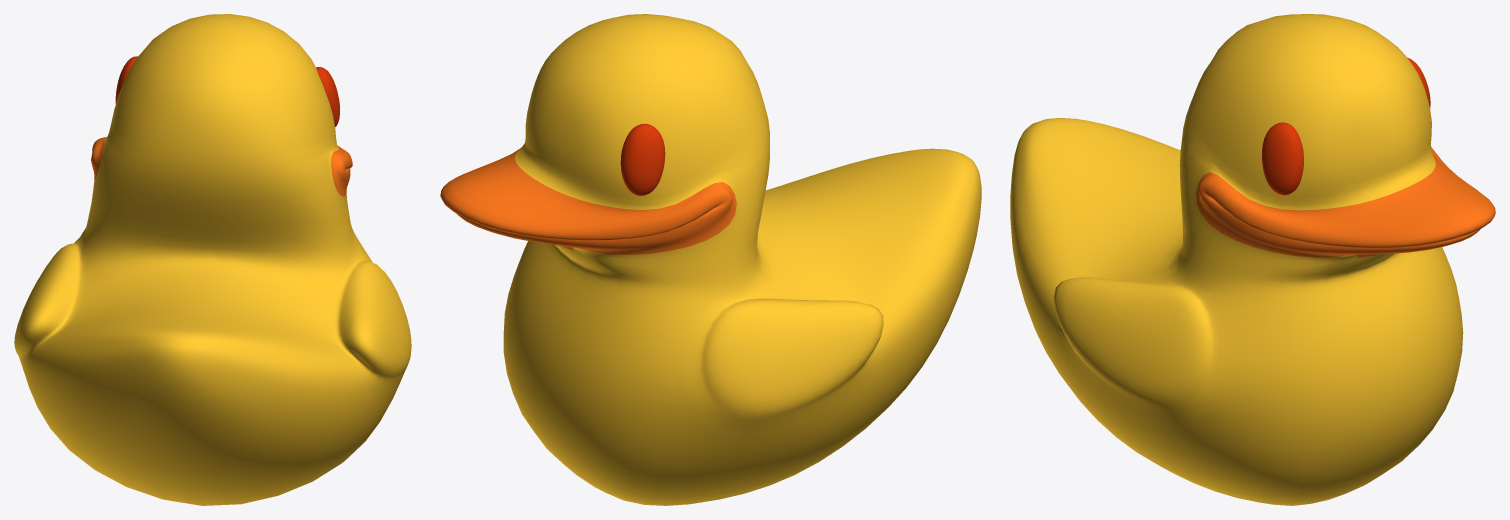
The model's file is duck_2_bread _frency.fbx.
3 renders of one model, left to right at view 1: azimuth 30°, elevation 25°; view 2: azimuth 150°, elevation 25°; view 3: azimuth 270°, elevation 25°, orthographic. The views are drawn at different scales.
Visible parts, largest first — view 1: Rubber ducky; view 2: Rubber ducky; view 3: Rubber ducky.
Boxes of the visible parts, <box> form: Rubber ducky: <box>14,14,411,505</box>; Rubber ducky: <box>440,14,981,505</box>; Rubber ducky: <box>1010,14,1495,505</box>.
Bounding box in the file's own units: 52.54 × 63.54 × 59.44.
